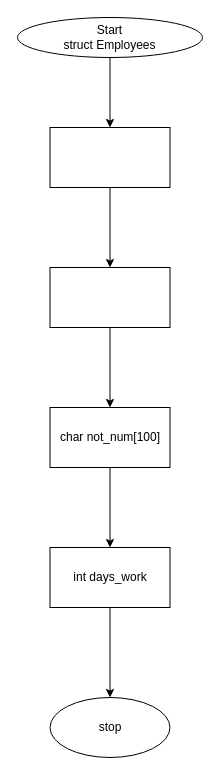
The diagram is 220 pixels wide and 775 high, and some of its shapes have lost their labels. The shapes that lost their labels are listed below. From the top down, each one's centre as x and y in pixels, then its label:
At pixel 109 157: "char name[100]".
At pixel 109 297: "char date[100]".
